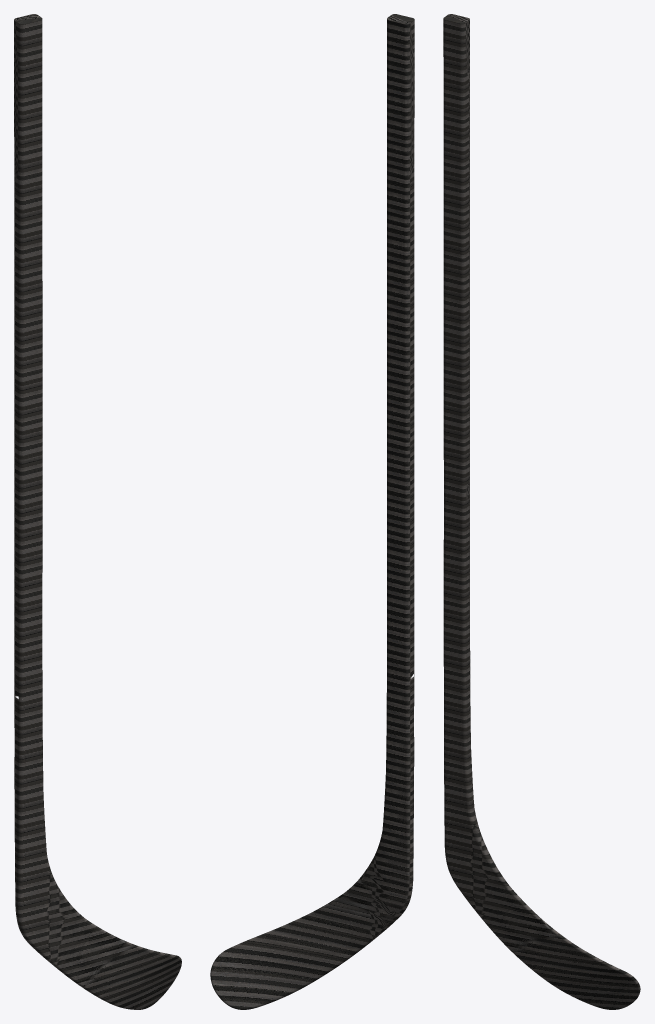
The picture shows the model from 3 angles, left to right: view 1: azimuth 30°, elevation 25°; view 2: azimuth 150°, elevation 25°; view 3: azimuth 330°, elevation 25°; orthographic projection. The views are drawn at different scales.
Parts seen in each view (by area): view 1: geometry_0; view 2: geometry_0; view 3: geometry_0.
Boxes of the visible parts, left/top/right/bottom form: geometry_0: left=14, top=14, right=181, bottom=1009; geometry_0: left=210, top=14, right=414, bottom=1009; geometry_0: left=443, top=14, right=640, bottom=1009.
Bounding box in the file's own units: 237 × 1266 × 65.43.
1 material, 1 textured.
